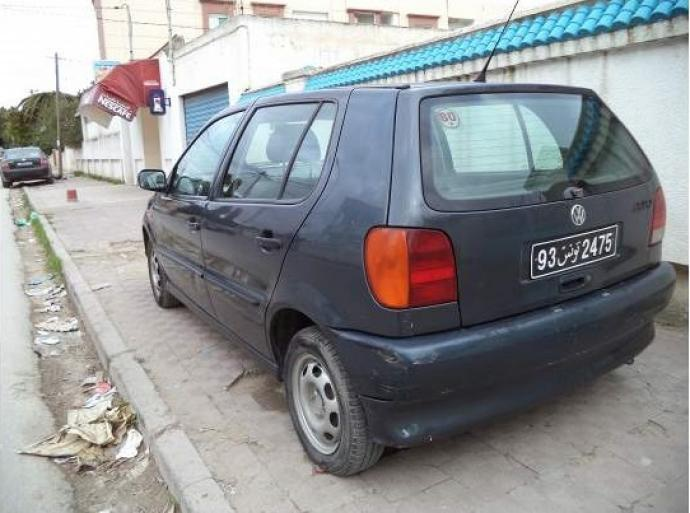LP: (529, 225, 626, 274)
